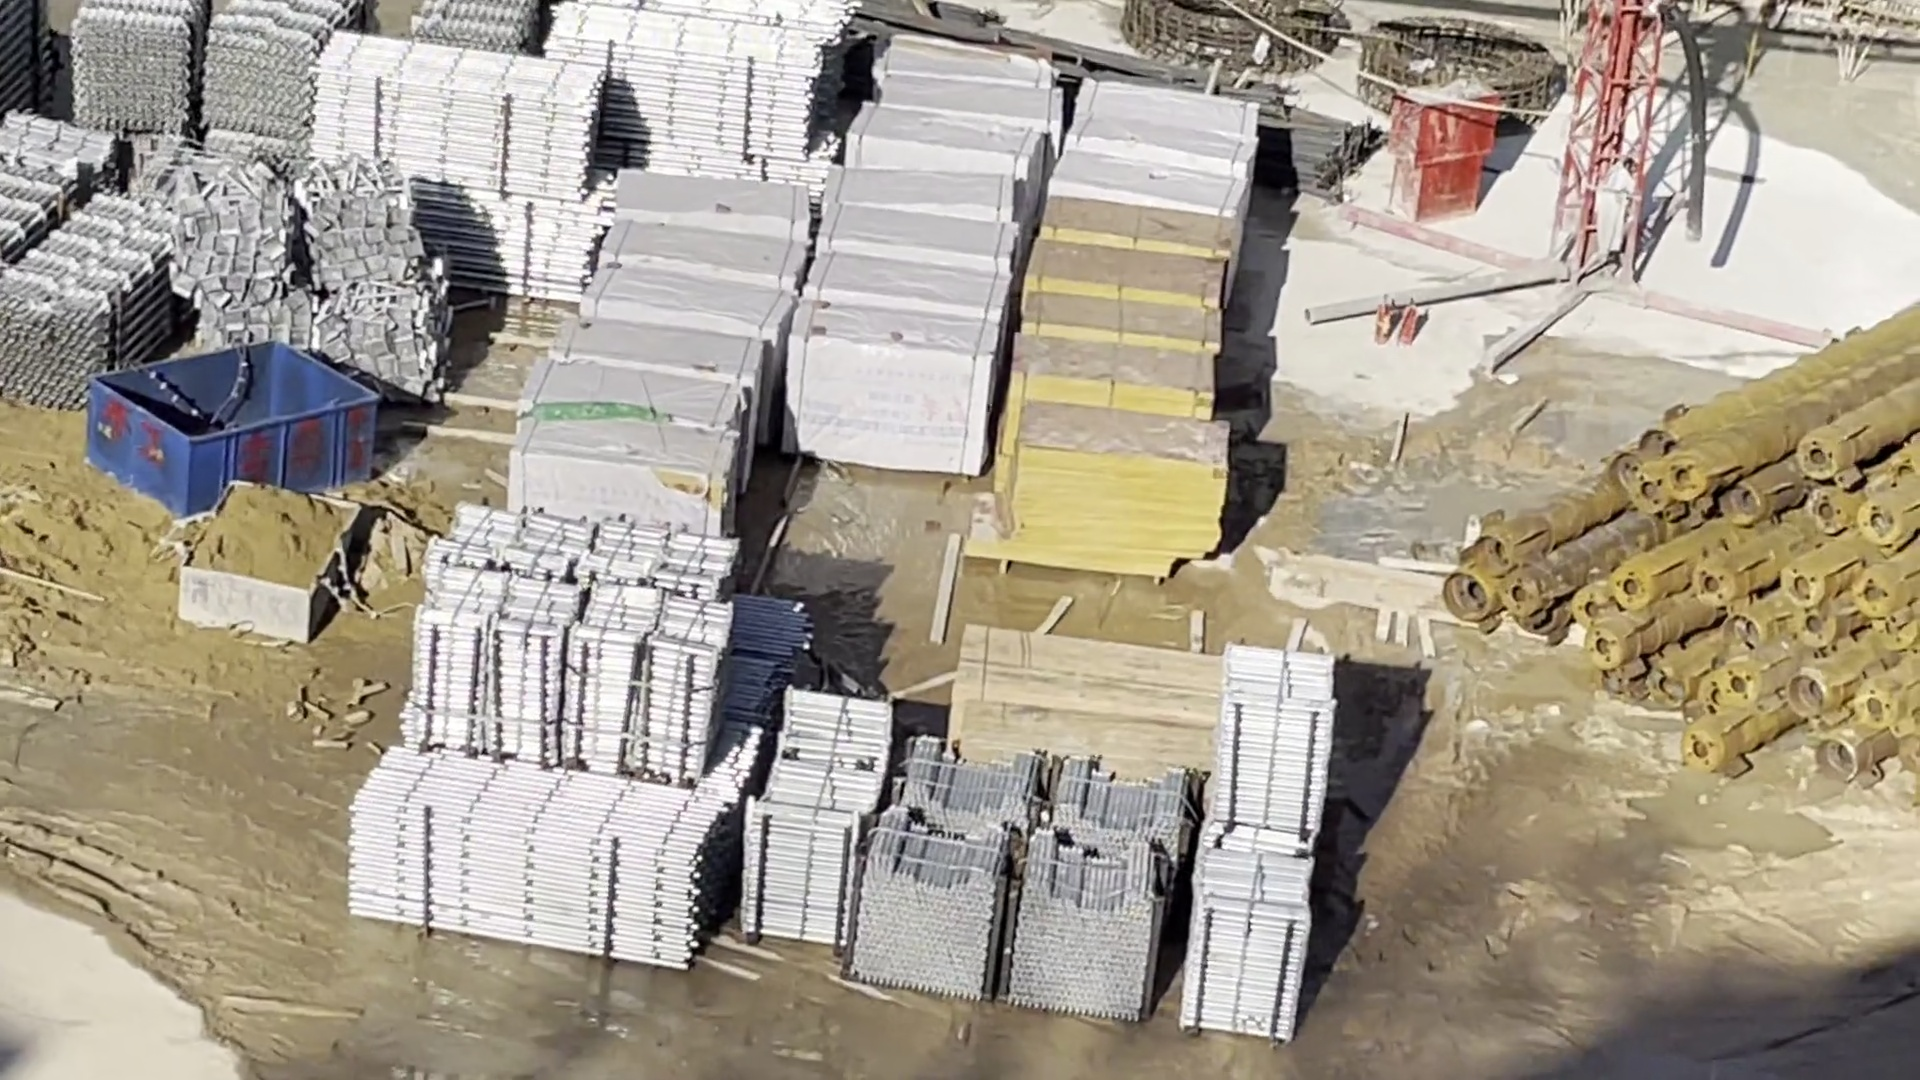board: (1004, 196, 1215, 564), (944, 637, 1211, 774)
hopper: (88, 342, 378, 512), (182, 479, 363, 646)
rebar: (905, 1, 1369, 177)
scaffold: (858, 737, 1189, 1021), (419, 520, 742, 783), (349, 760, 728, 960), (311, 37, 604, 291), (1185, 653, 1320, 1039), (556, 1, 843, 179), (70, 1, 357, 173), (1, 179, 183, 410), (746, 711, 884, 951)
